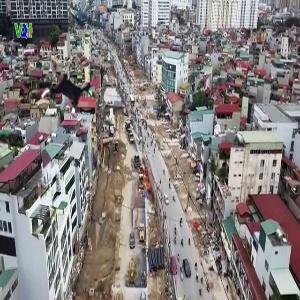drone: (40, 66, 99, 125)
